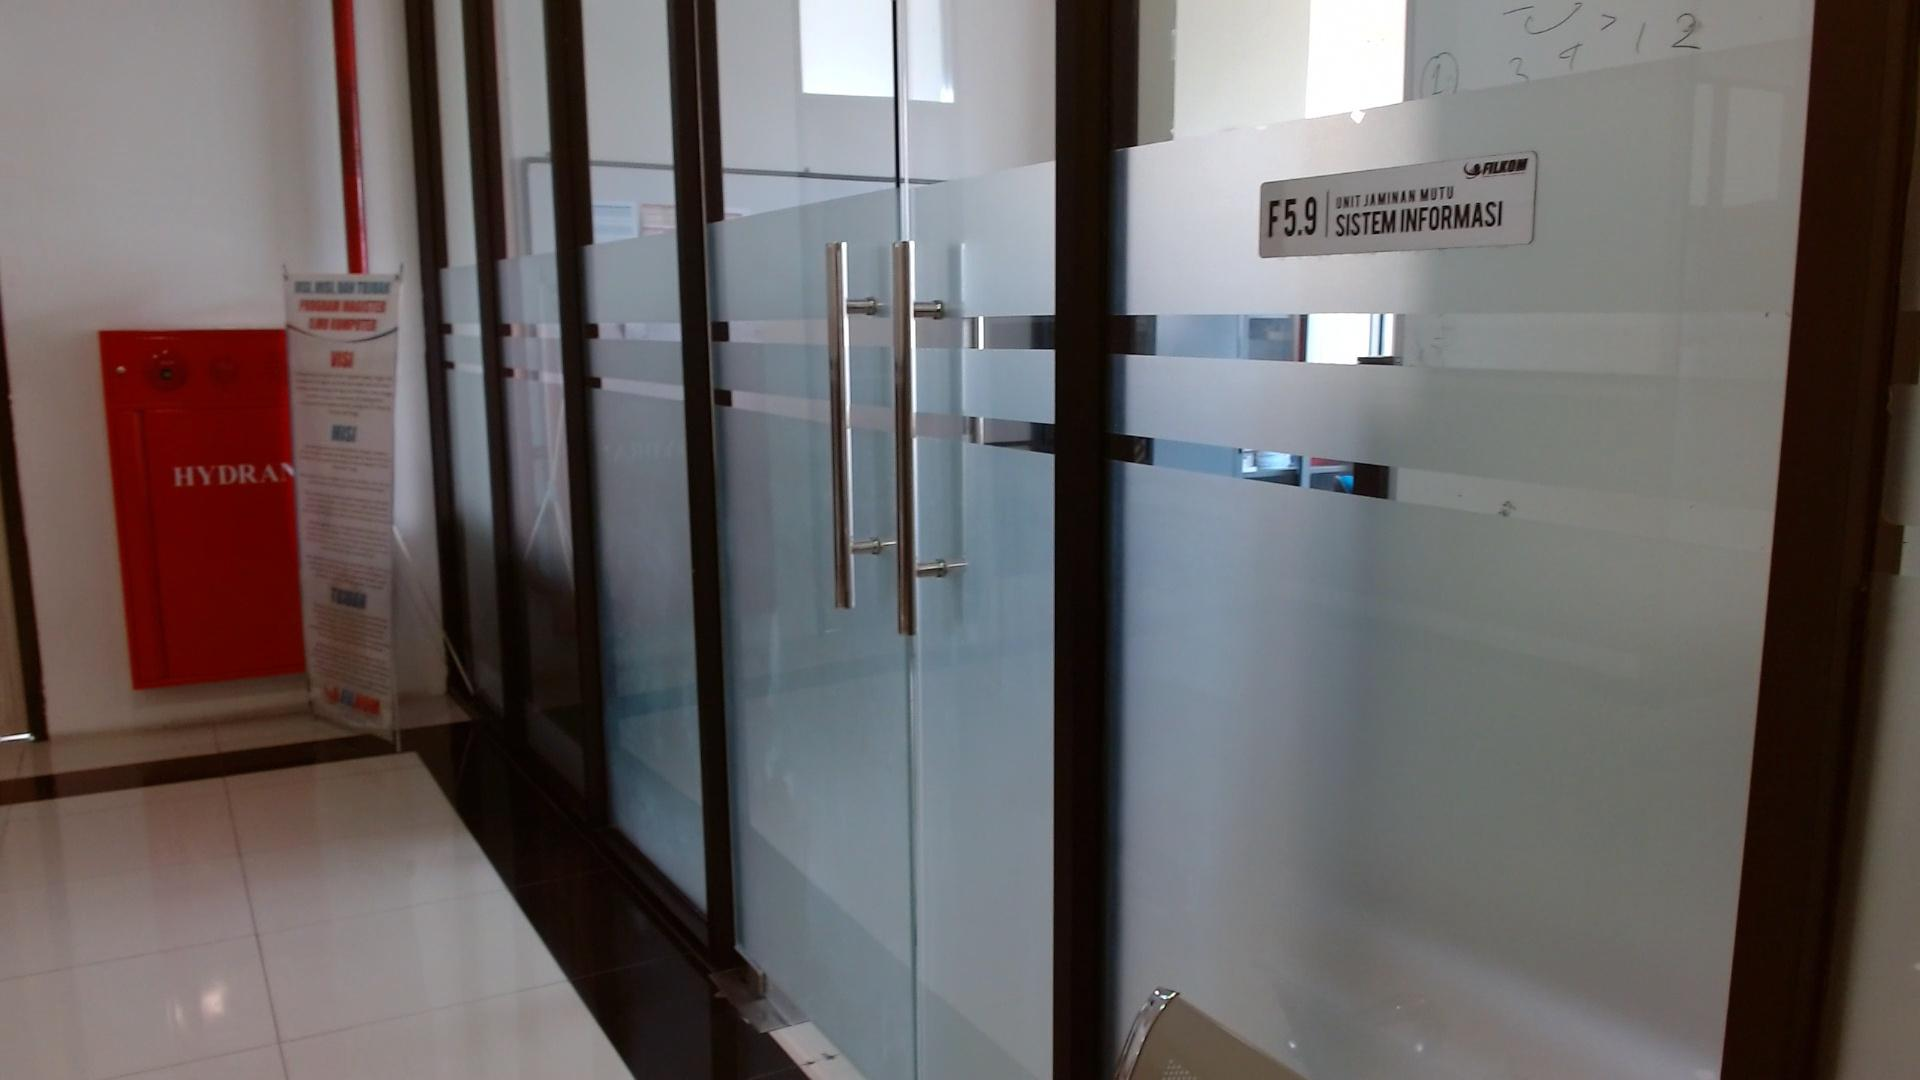plate: (1258, 152, 1538, 258)
